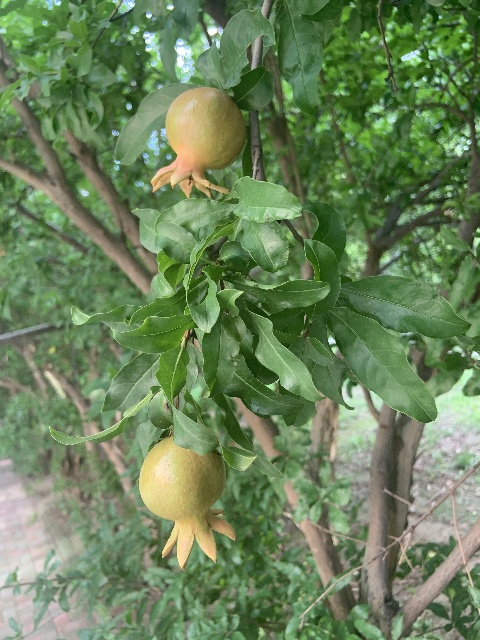mid-growth: (138, 435, 236, 570), (150, 86, 246, 200)
